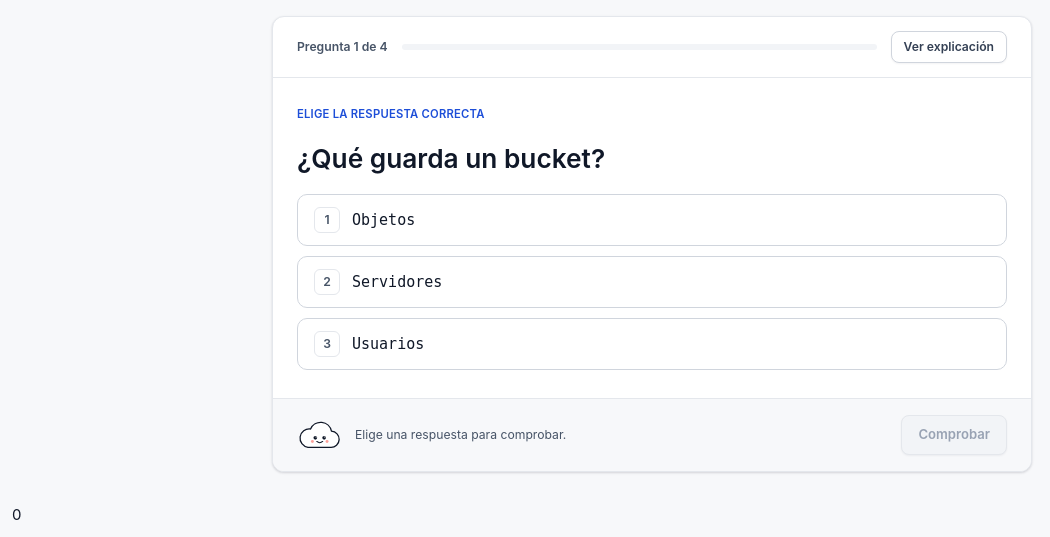
choice builds a choice answer with the picked option
Later steps or results of the test are not shown.
Expected: the heading "¿Qué guarda un bucket?" is shown, [297, 143, 605, 174]
Expected: the text "ELIGE LA RESPUESTA CORRECTA" is shown, [297, 107, 485, 121]
Click the radio button labelled "2 Servidores": (397, 282) [297, 256, 1007, 308]
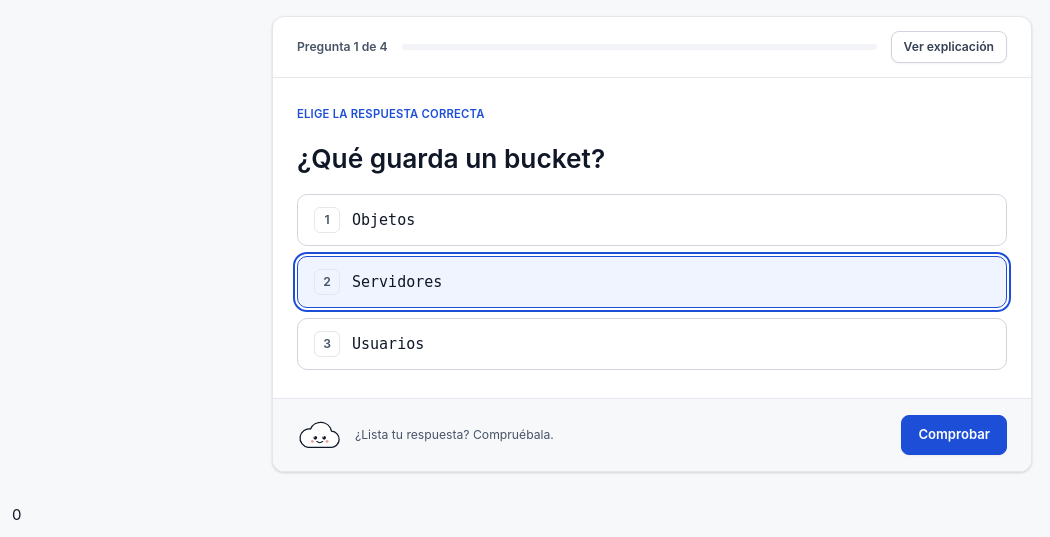
Result: the text "¿Lista tu respuesta? Compruébala." is shown at [355, 427, 554, 442]
